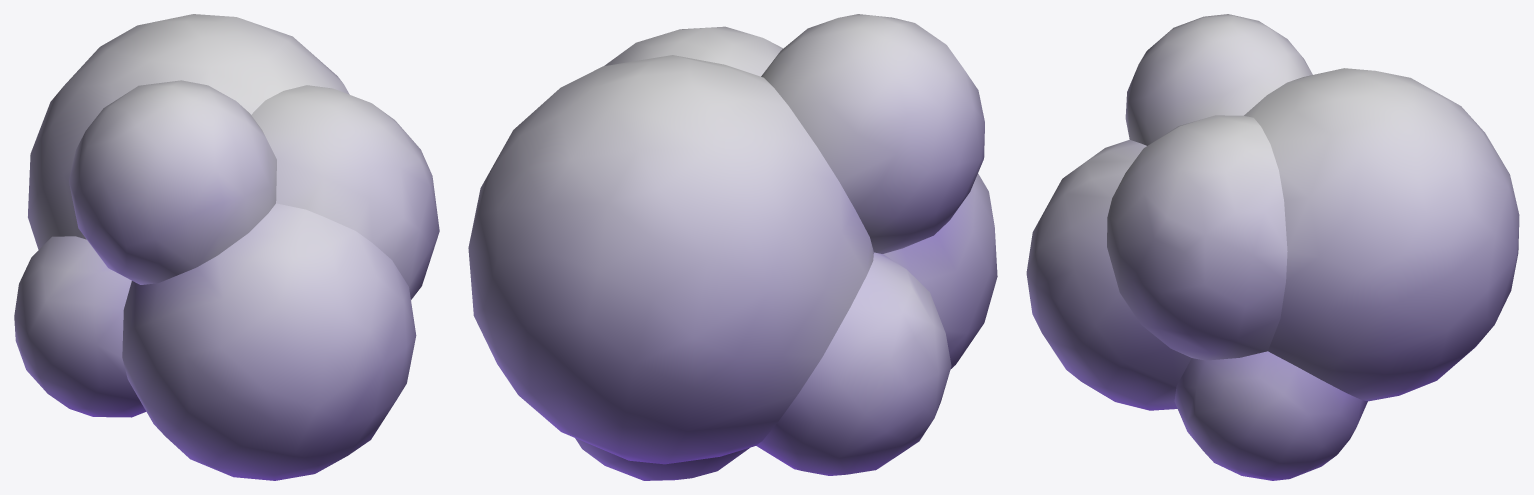
The model's file is poofLarge.fbx.
3 views of the same model, side by side, from view 1: azimuth 30°, elevation 25°; view 2: azimuth 150°, elevation 25°; view 3: azimuth 270°, elevation 25° (orthographic). The views are drawn at different scales.
Visible parts, largest first — view 1: fx_poof_large; view 2: fx_poof_large; view 3: fx_poof_large.
Part boxes in pixels (box(x1,y1,x2,y2)): fx_poof_large: box(14, 14, 439, 480); fx_poof_large: box(468, 14, 997, 480); fx_poof_large: box(1026, 14, 1519, 480).
Bounding box in the file's own units: 0.7434 × 0.8105 × 0.9529.
